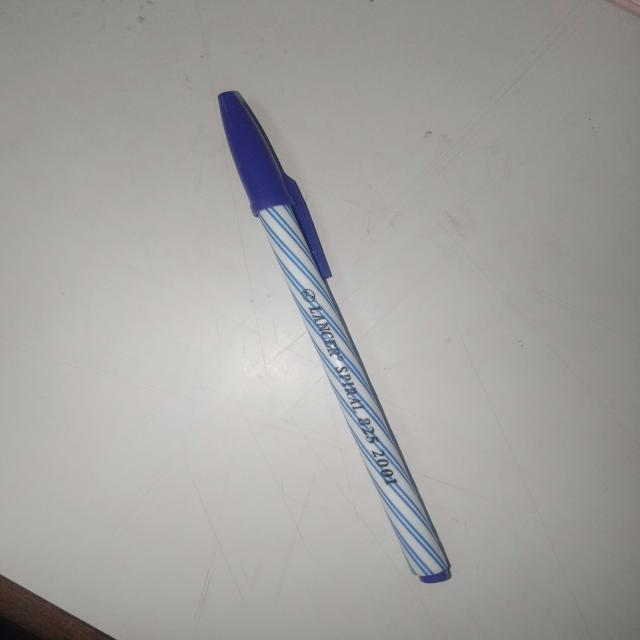pen_pencil: (188, 73, 506, 605)
